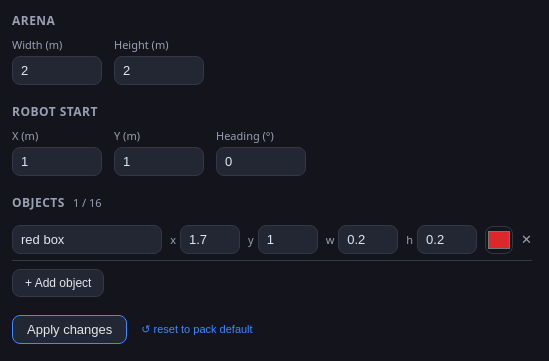
Test: WorldPanel › reset to pack default applies immediately, bypassing the Apply button
Click the button "↺ reset to pack default".
click(197, 330)  # box x1=141 y1=323 x2=253 y2=336
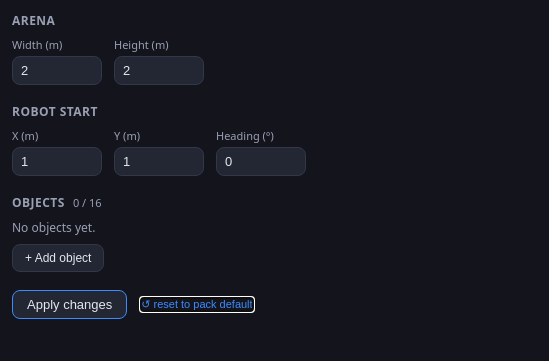
Result: the text "0 / 16" is shown at x1=73 y1=195 x2=102 y2=210
